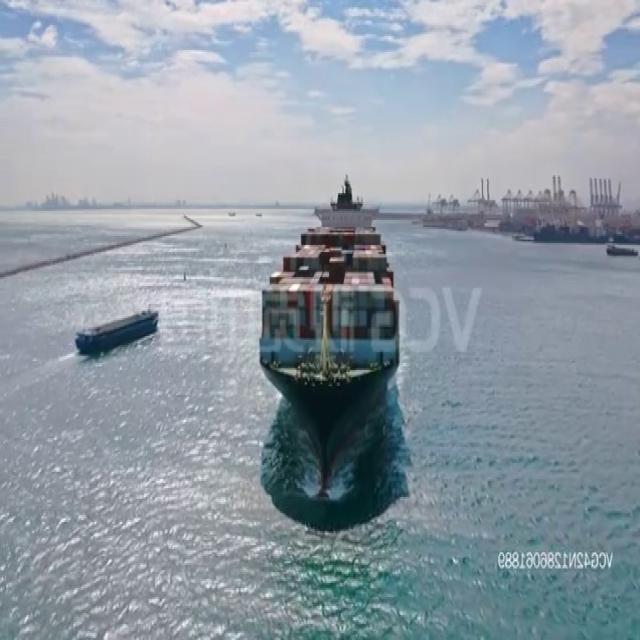cargoship: (255, 168, 402, 483), (74, 304, 161, 356)
